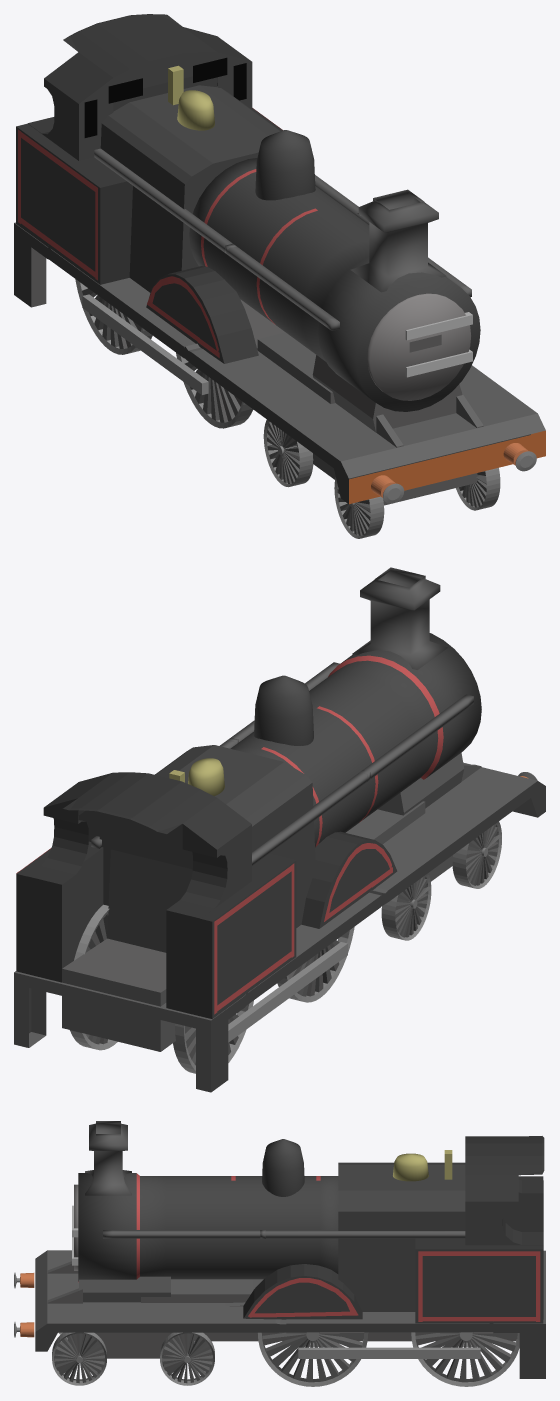
File: mr-2781-lms.dae
3 views of the same model, one above another, from view 1: azimuth 30°, elevation 25°; view 2: azimuth 150°, elevation 25°; view 3: azimuth 270°, elevation 25° (orthographic). The views are drawn at different scales.
Parts seen in each view (by area): view 1: Cube_023, Cylinder_012, Cylinder_031, Cube_022, Cube_001, Cylinder_032, Cube_021, Cube_034, Cylinder_025, Cube_024, Cylinder_030, Cube_030 (+14 smaller); view 2: Cylinder_031, Cylinder_012, Cube_023, Cube_022, Cube_001, Cube_028, Cube_021, Cube, Cylinder_025, Cube_034, Cylinder_028, Cube_030 (+8 smaller); view 3: Cylinder_012, Cube_023, Cube_022, Cylinder_031, Cube, Cylinder_027, Cylinder_028, Cube_033, Cube_021, Cylinder_030, Cylinder_029, Cube_029 (+14 smaller).
Boxes of the visible parts, x1,y1,x2,y2 form: Cube_023: [14, 222, 545, 504]; Cylinder_012: [189, 158, 480, 411]; Cylinder_031: [28, 14, 258, 363]; Cube_022: [100, 85, 280, 292]; Cube_001: [16, 123, 132, 284]; Cylinder_032: [367, 293, 470, 400]; Cube_021: [350, 189, 446, 292]; Cube_034: [94, 148, 339, 330]; Cylinder_025: [255, 130, 315, 200]; Cube_024: [312, 355, 462, 432]; Cylinder_030: [334, 467, 500, 538]; Cube_030: [82, 294, 208, 394]; Cylinder_031: [27, 772, 397, 1016]; Cylinder_012: [230, 633, 481, 847]; Cube_023: [14, 762, 545, 1092]; Cube_022: [99, 745, 315, 927]; Cube_001: [200, 853, 296, 1018]; Cube_028: [62, 938, 175, 1051]; Cube_021: [352, 567, 447, 669]; Cube: [16, 841, 103, 973]; Cylinder_025: [254, 675, 313, 745]; Cube_034: [252, 694, 473, 865]; Cylinder_028: [70, 904, 253, 1073]; Cube_030: [228, 942, 347, 1042]; Cylinder_012: [78, 1173, 338, 1282]; Cube_023: [35, 1250, 545, 1378]; Cube_022: [338, 1162, 465, 1311]; Cylinder_031: [243, 1136, 544, 1319]; Cube: [415, 1238, 543, 1323]; Cylinder_027: [257, 1332, 368, 1386]; Cylinder_028: [411, 1332, 519, 1386]; Cube_033: [103, 1230, 465, 1238]; Cube_021: [85, 1121, 131, 1195]; Cylinder_030: [52, 1332, 106, 1385]; Cylinder_029: [160, 1332, 214, 1385]; Cube_029: [298, 1347, 480, 1358].
Bounding box in the file's own units: 2.03 × 6.18 × 3.02.
